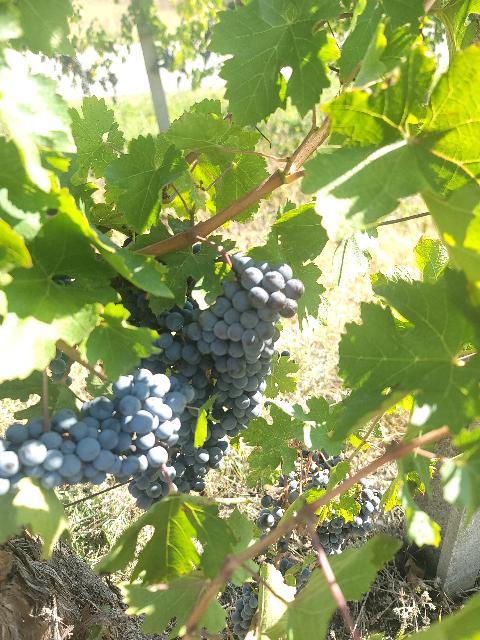grapes: (0, 369, 196, 491), (188, 252, 305, 429), (162, 406, 230, 492)
